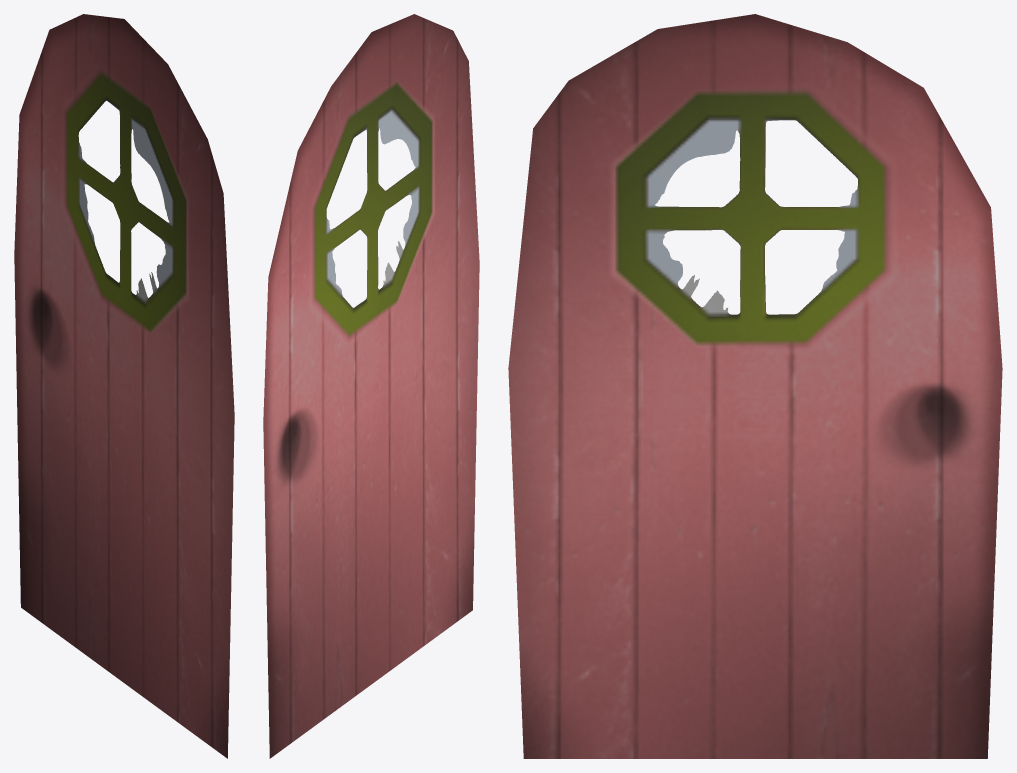
Rendered from lounge_gardendoor.dae.
3 renders of one model, left to right at view 1: azimuth 30°, elevation 25°; view 2: azimuth 150°, elevation 25°; view 3: azimuth 270°, elevation 25°, orthographic. The views are drawn at different scales.
Visible parts, largest first — view 1: doortogarden; view 2: doortogarden; view 3: doortogarden.
Part boxes in pixels (x1,y1,x2,y2): doortogarden: [14, 14, 234, 758]; doortogarden: [263, 14, 479, 758]; doortogarden: [508, 14, 1002, 758].
Size of the model in its own units: 2.43e-15 by 10.93 by 6.57.
Materials: 1 (1 with a texture image).
